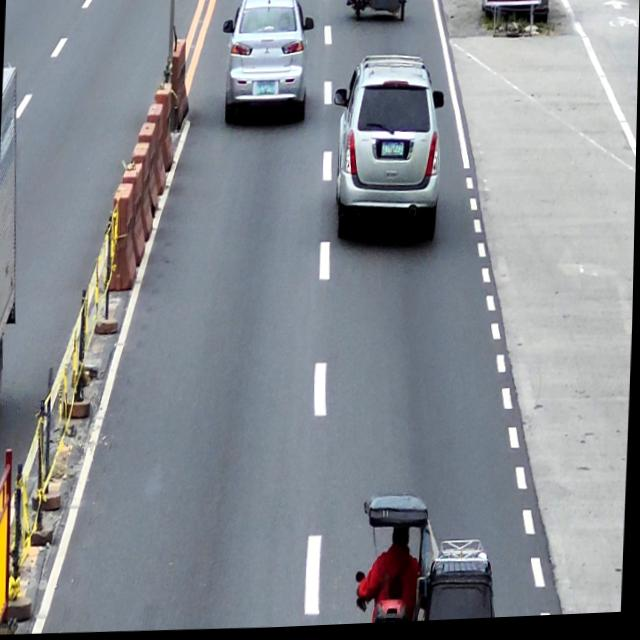Car: (330, 55, 447, 249), (219, 0, 314, 128)
License-Plate: (381, 144, 404, 161), (257, 84, 276, 97)
Tricycle: (349, 0, 407, 28)
Truck: (0, 62, 26, 416)
